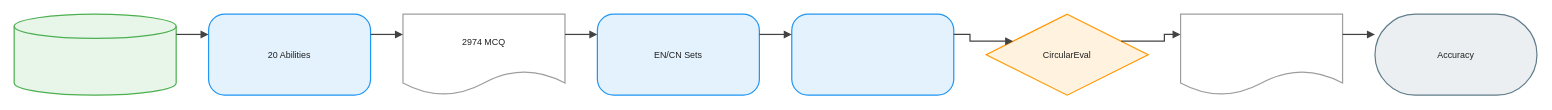
The diagram is 1552 pixels wide and 110 high, and some of its shapes have lost their labels. Each missing label, with the centre of its shape:
Extract: the point at 1261,54
Quality QC: the point at 872,54
Source Pool: the point at 94,54
